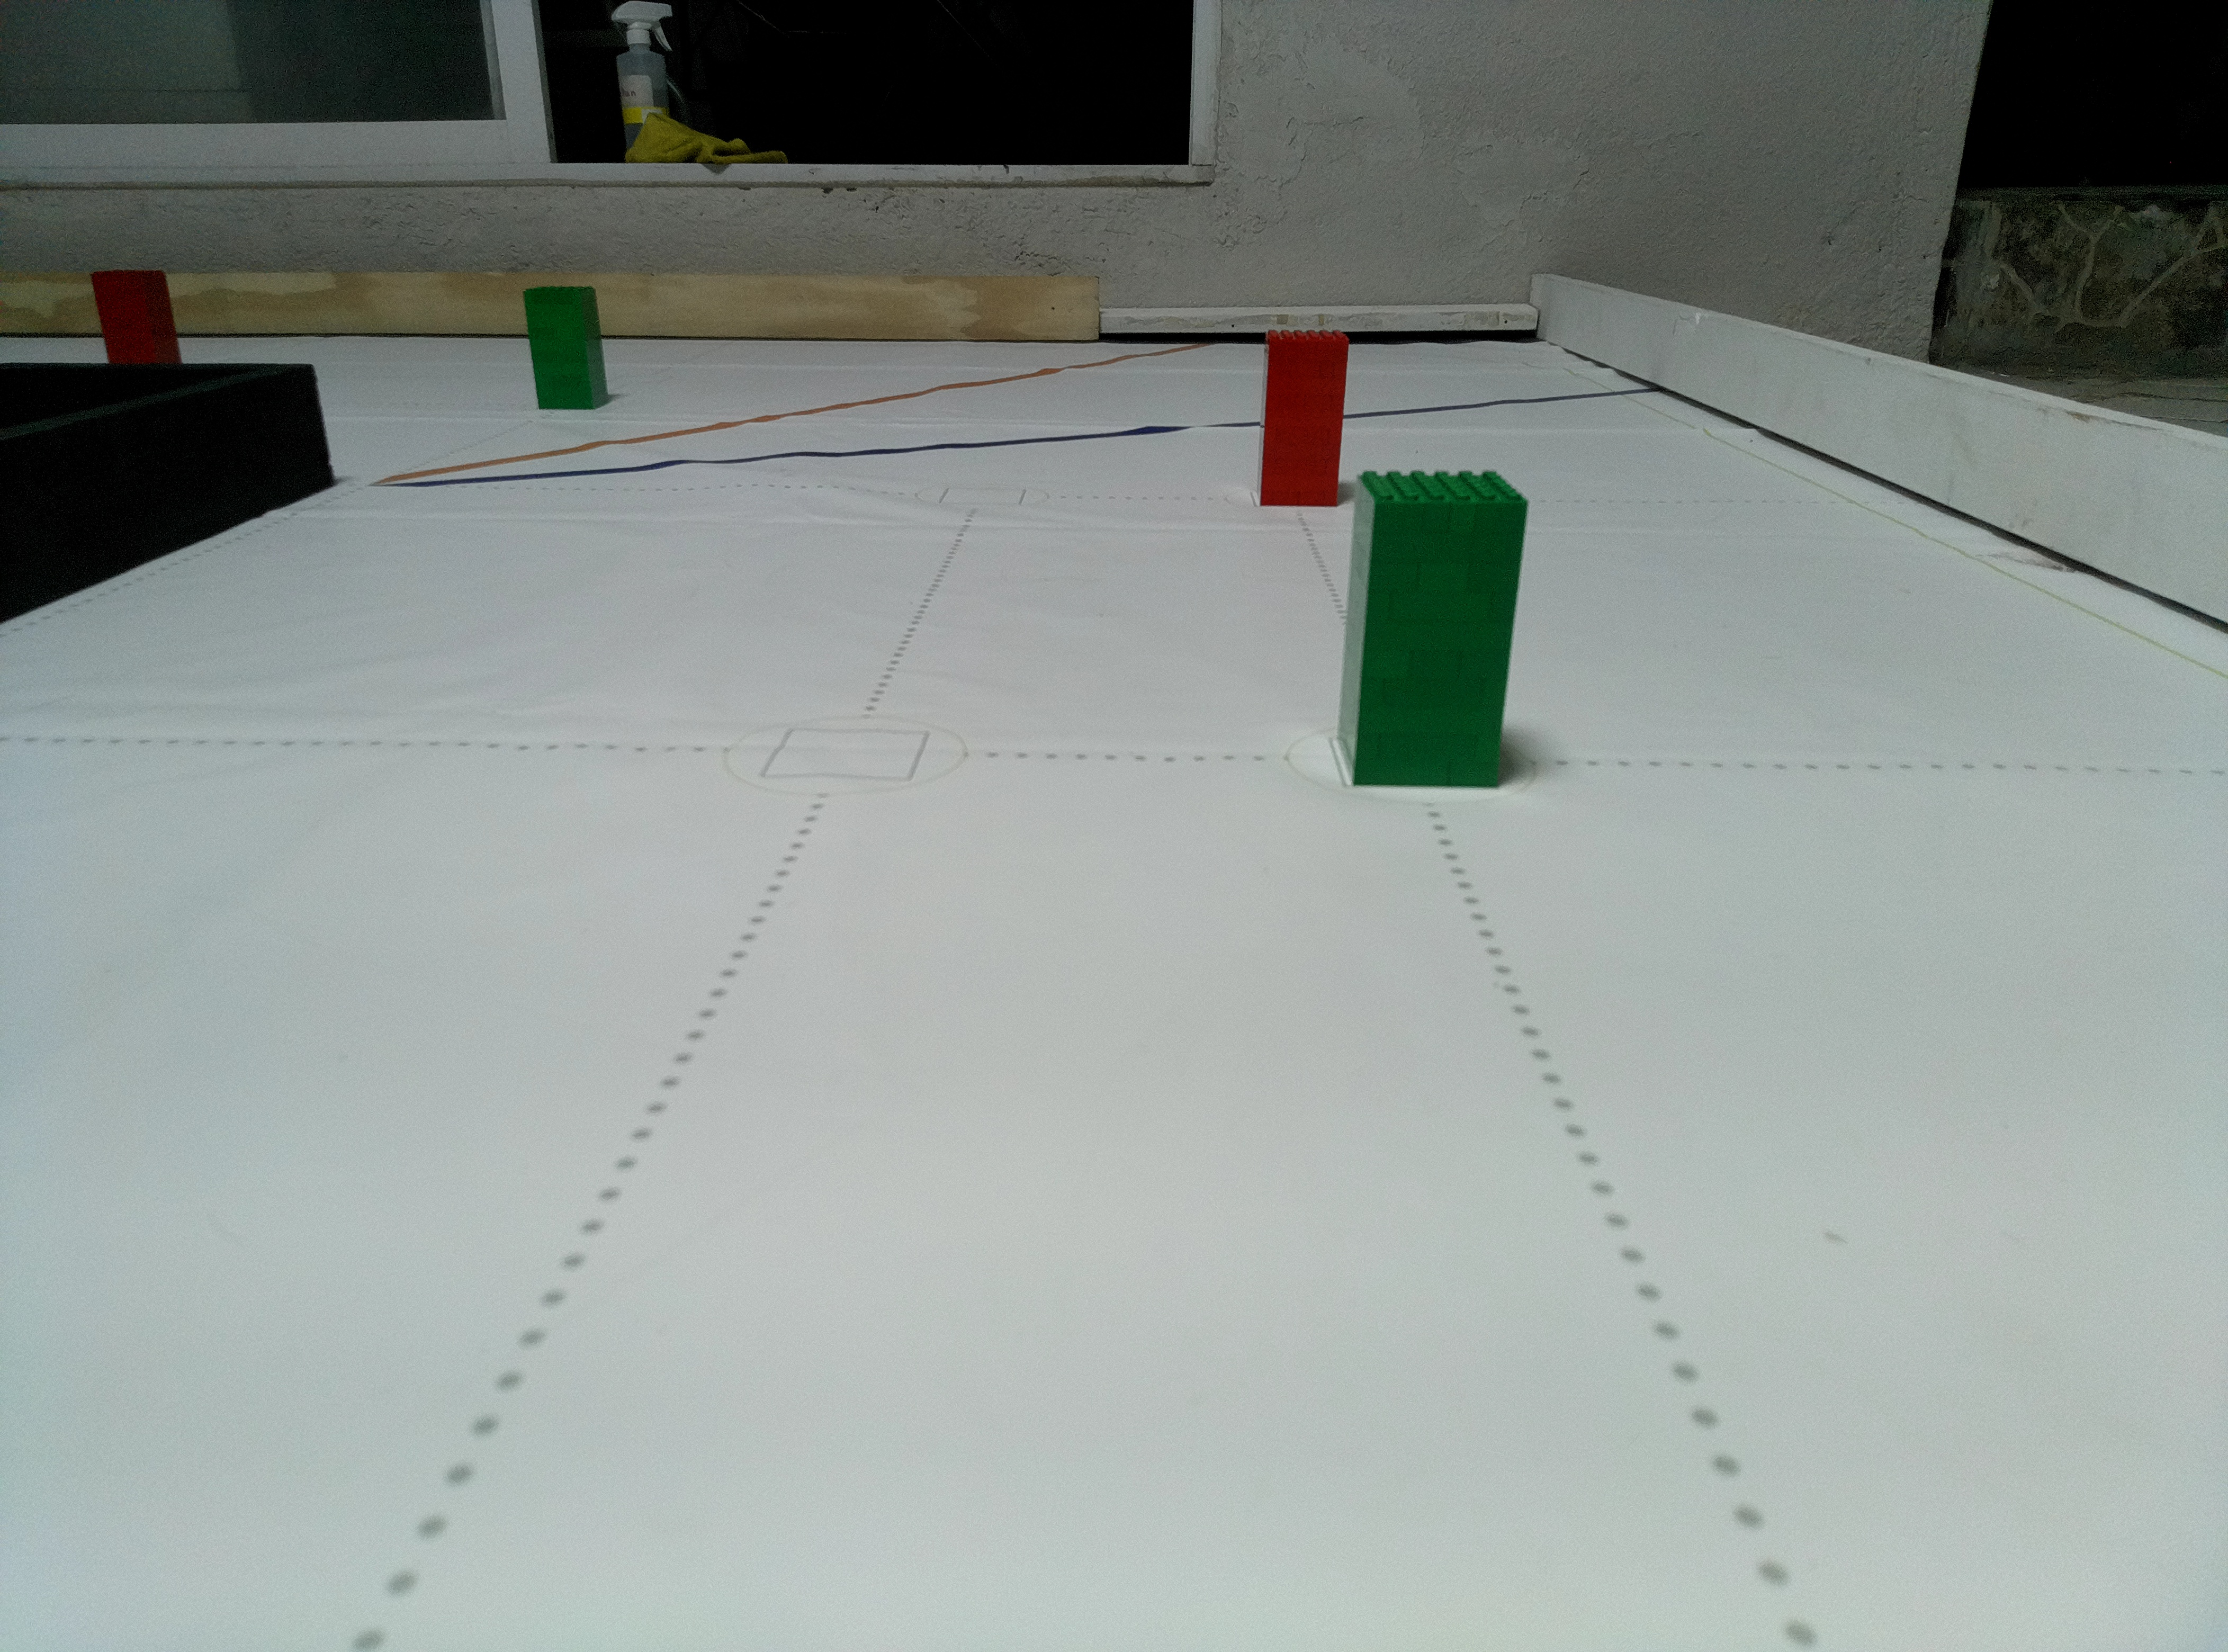greenbox: (1333, 467, 1532, 788), (521, 285, 613, 411)
redbox: (1255, 326, 1352, 510), (88, 267, 184, 366)
